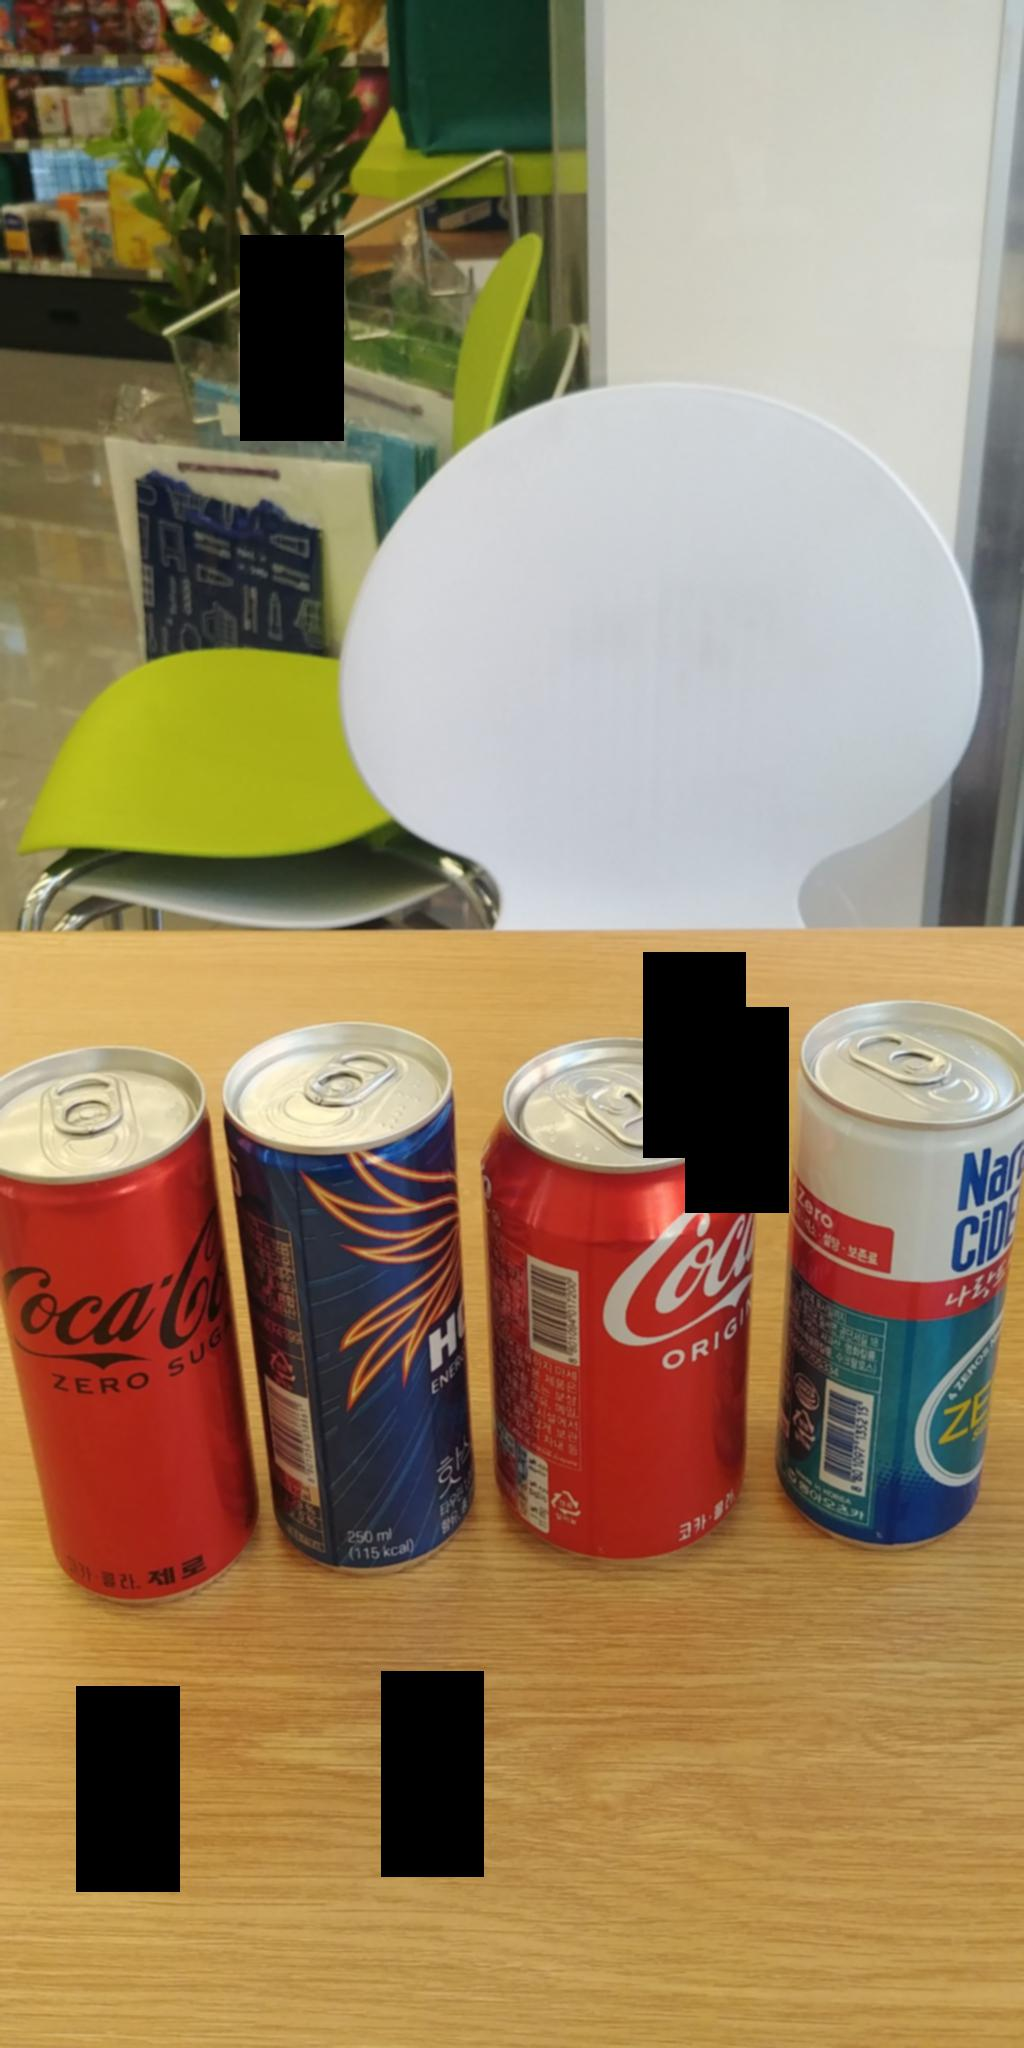cocacola: (504, 1033, 765, 1573)
hotsix_org: (219, 1038, 479, 1573)
narangdcider: (769, 1003, 1023, 1557)
